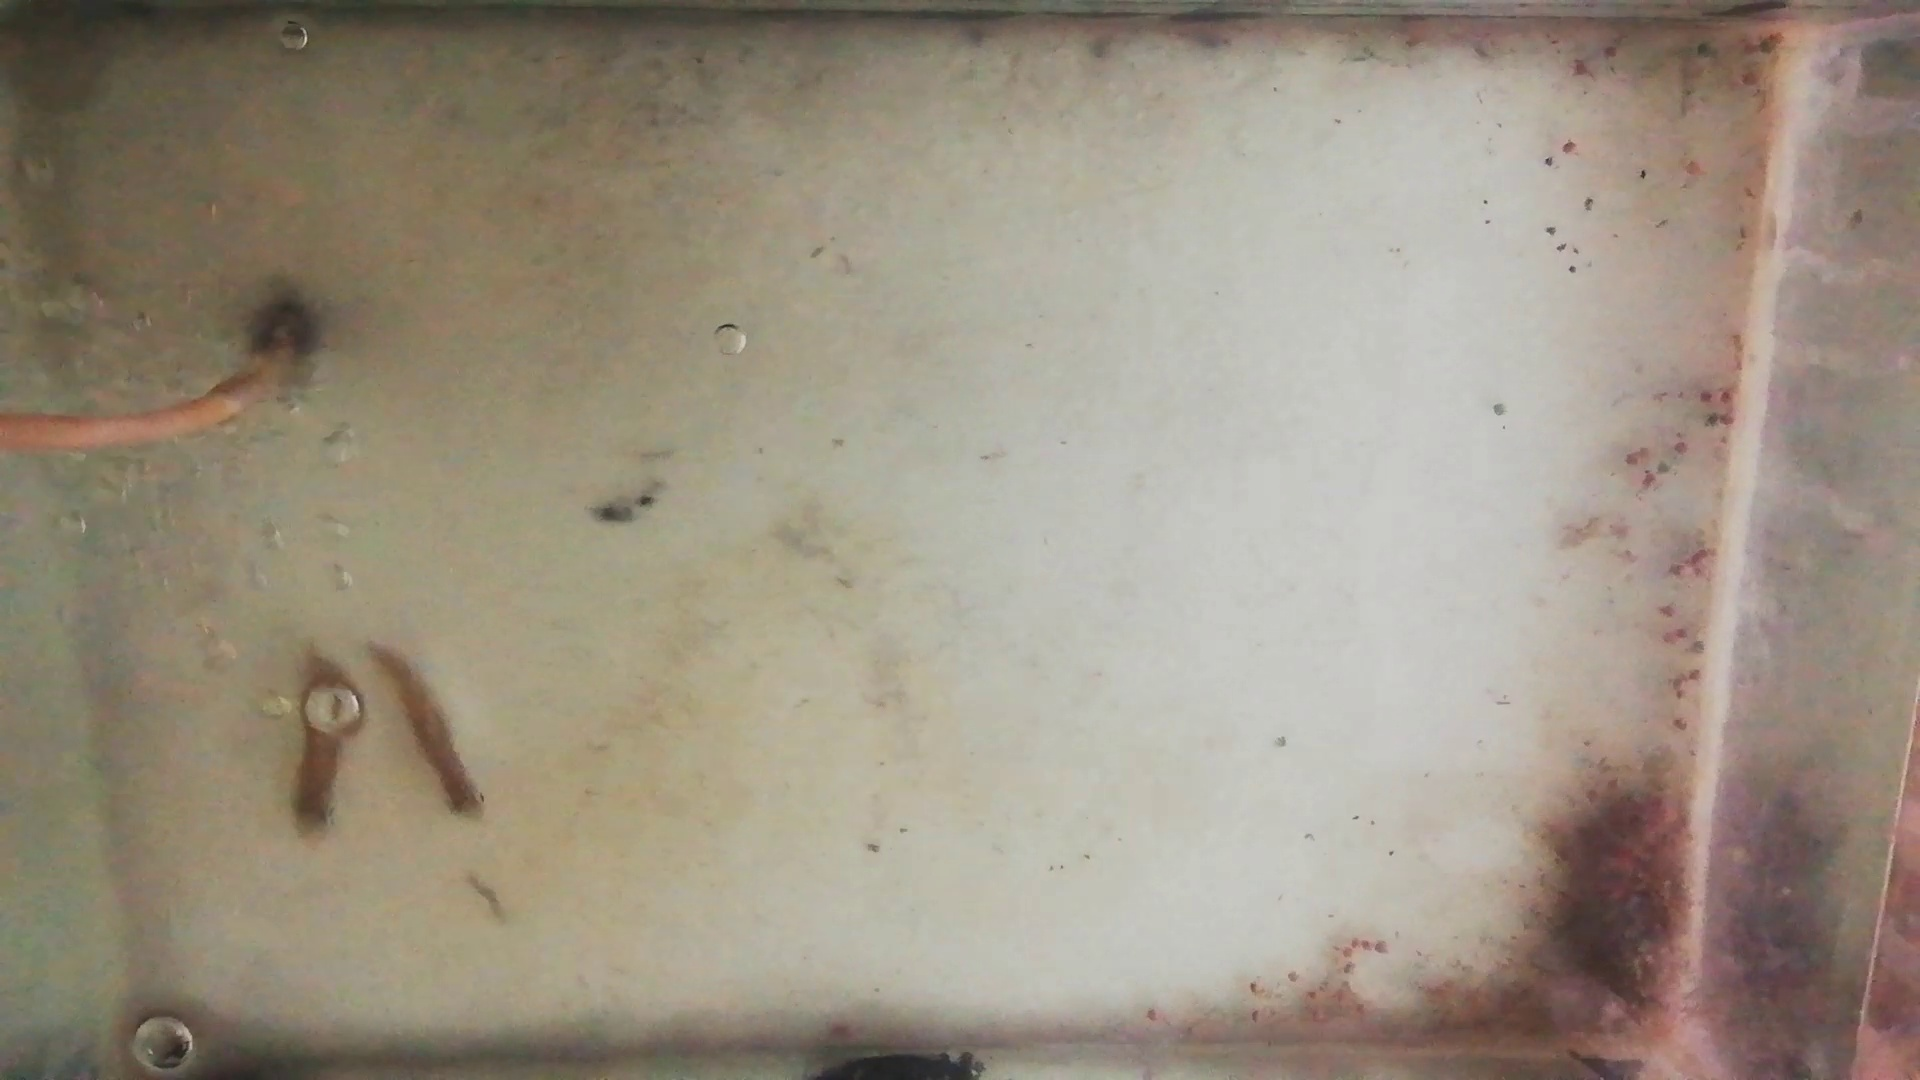fish: (363, 647, 483, 818), (287, 653, 349, 837)
